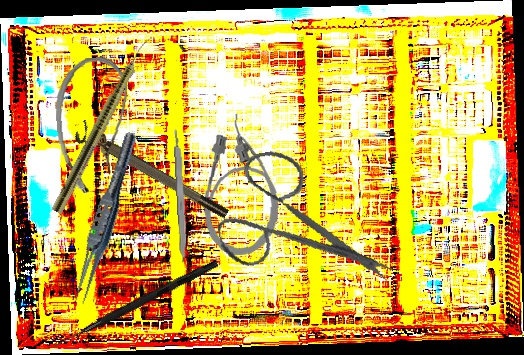Cannula: (201, 112, 285, 258), (51, 55, 136, 195)
Fixation Ring: (72, 119, 231, 228)
Handpiece: (50, 31, 155, 216)
Hook Surgical: (51, 257, 219, 353)
Iris Scissors: (205, 132, 395, 311)
Scalpel Handle: (172, 127, 190, 264)
Tissue Forceps: (68, 129, 142, 309)
